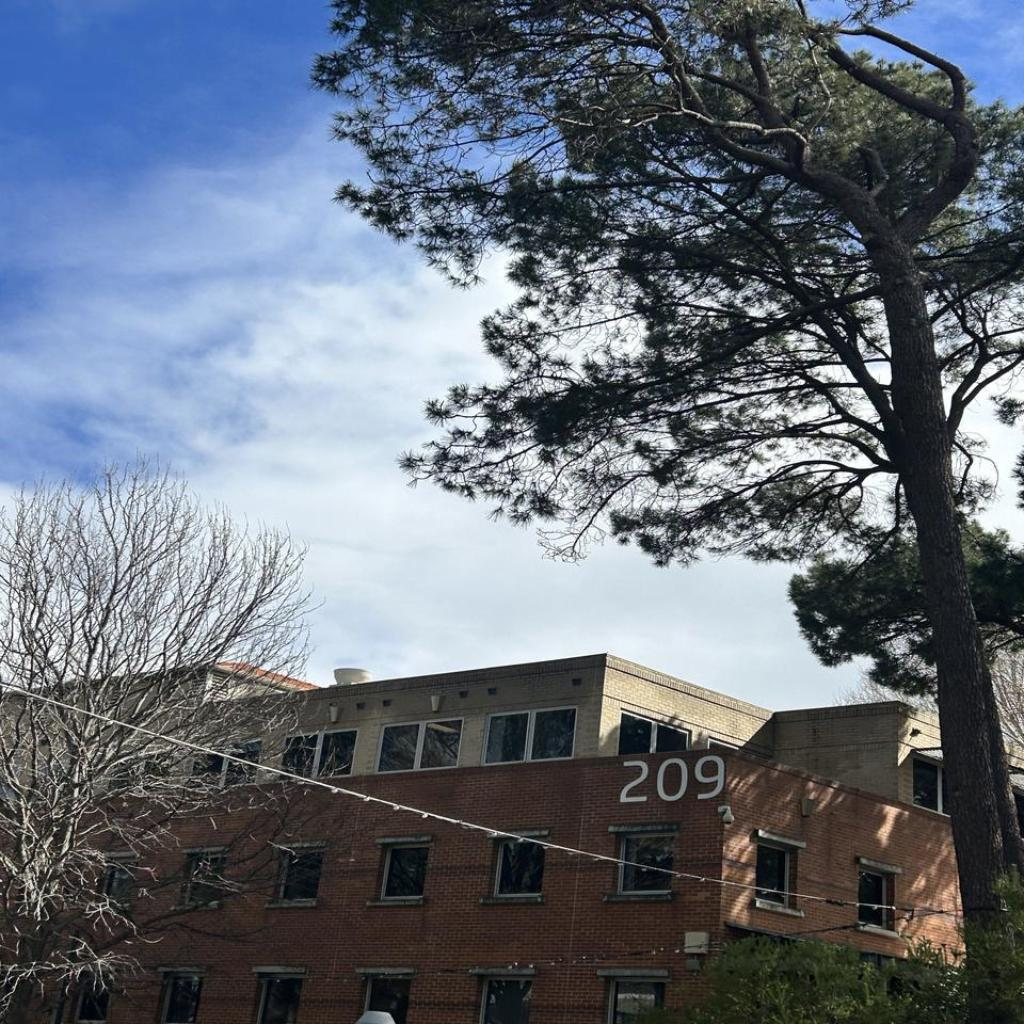BuildingCodes: (618, 753, 726, 805)
